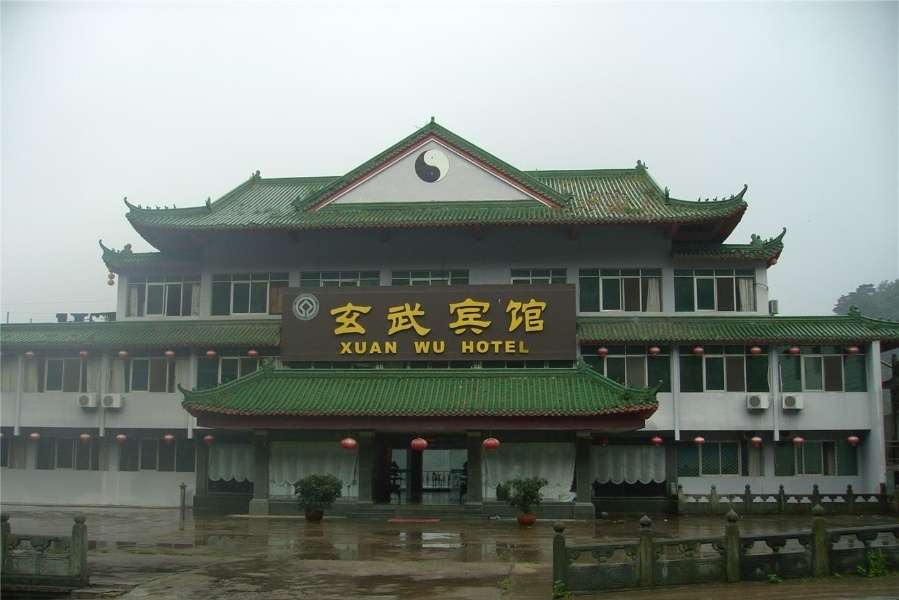text: (337, 297, 352, 338), (353, 297, 368, 338), (369, 297, 384, 338), (385, 297, 400, 338), (401, 297, 416, 338), (417, 297, 432, 338), (433, 297, 448, 338), (449, 297, 464, 338), (465, 297, 480, 338), (481, 297, 496, 338), (497, 297, 512, 338), (513, 297, 528, 338), (529, 297, 544, 338), (331, 297, 336, 338), (513, 341, 529, 353), (353, 342, 368, 354), (369, 342, 384, 354), (417, 342, 432, 354), (465, 341, 480, 353), (481, 341, 496, 353), (497, 341, 512, 353), (385, 342, 398, 354), (433, 342, 446, 354), (341, 342, 352, 354), (545, 297, 548, 338), (414, 342, 416, 354), (462, 341, 464, 353)
